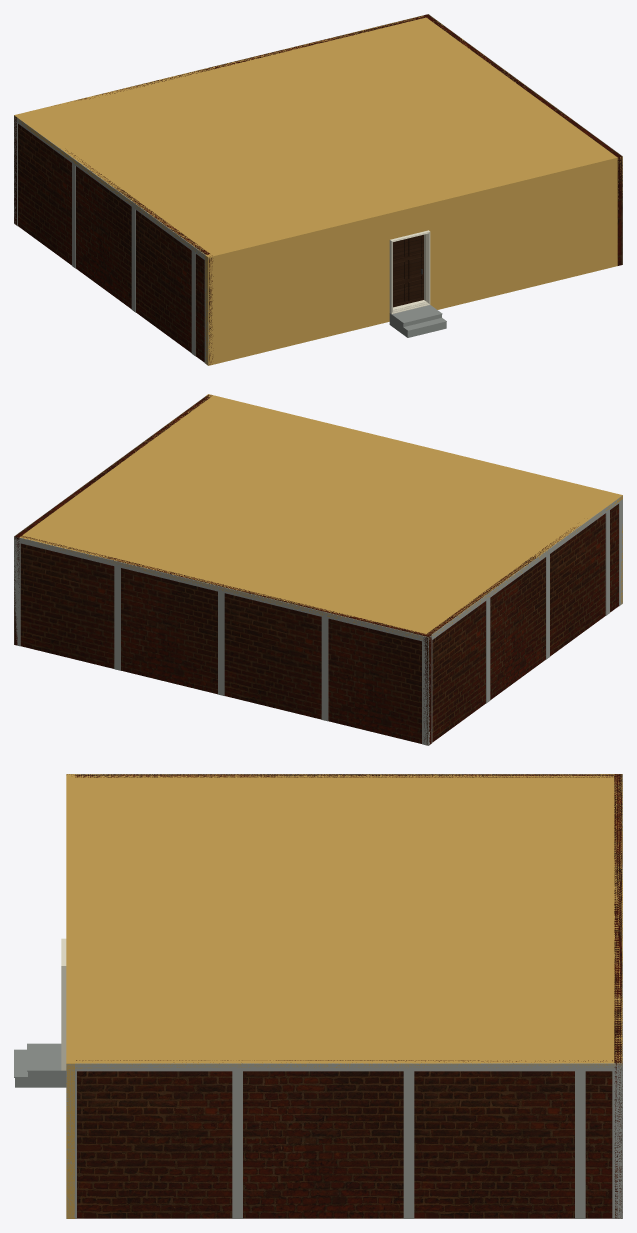
The model's file is building.glb.
3 renders of one model, top to bottom at view 1: azimuth 30°, elevation 25°; view 2: azimuth 150°, elevation 25°; view 3: azimuth 270°, elevation 25°, orthographic. The views are drawn at different scales.
Visible parts, largest first — view 1: roof/house:0/roof_slab#0001, house:0/edge0/z0/house:0/edge0/z0/wall_0_0, house:0/edge3/z0/house:0/edge3/z0/wall_0_0, house:0/edge1/z0/house:0/edge1/z0/wall_0_0, entrance/dos_gradas/entrance_steps#0001, house:0/edge2/z0/house:0/edge2/z0/wall_0_0, house:0/edge3/z0/house:0/edge3/z0/beam_0_0, house:0/edge3/z0/house:0/edge3/z0/column_3_0, house:0/edge3/z0/house:0/edge3/z0/column_4_0; view 2: roof/house:0/roof_slab#0001, house:0/edge2/z0/house:0/edge2/z0/wall_0_0, house:0/edge3/z0/house:0/edge3/z0/wall_0_0, house:0/edge2/z0/house:0/edge2/z0/beam_0_0, house:0/edge0/z0/house:0/edge0/z0/wall_0_0, house:0/edge1/z0/house:0/edge1/z0/wall_0_0, house:0/edge3/z0/house:0/edge3/z0/beam_0_0, house:0/edge2/z0/house:0/edge2/z0/column_4_0, house:0/edge2/z0/house:0/edge2/z0/column_2_0, house:0/edge2/z0/house:0/edge2/z0/column_3_0, house:0/edge2/z0/house:0/edge2/z0/column_1_0, house:0/edge2/z0/house:0/edge2/z0/column_0_0 (+2 smaller); view 3: roof/house:0/roof_slab#0001, house:0/edge1/z0/house:0/edge1/z0/wall_0_0, house:0/edge1/z0/house:0/edge1/z0/beam_0_0, house:0/edge0/z0/house:0/edge0/z0/wall_0_0, house:0/edge2/z0/house:0/edge2/z0/wall_0_0, entrance/dos_gradas/entrance_steps#0001, house:0/edge3/z0/house:0/edge3/z0/wall_0_0, house:0/edge1/z0/house:0/edge1/z0/column_3_0, house:0/edge1/z0/house:0/edge1/z0/column_2_0, house:0/edge1/z0/house:0/edge1/z0/column_4_0, house:0/edge1/z0/house:0/edge1/z0/column_1_0, house:0/edge1/z0/house:0/edge1/z0/column_0_0 (+1 smaller).
Boxes of the visible parts, box(x1,y1,x2,y2) form: roof/house:0/roof_slab#0001: box(14, 16, 617, 258); house:0/edge0/z0/house:0/edge0/z0/wall_0_0: box(205, 156, 622, 365); house:0/edge3/z0/house:0/edge3/z0/wall_0_0: box(18, 124, 213, 364); house:0/edge1/z0/house:0/edge1/z0/wall_0_0: box(424, 14, 622, 265); entrance/dos_gradas/entrance_steps#0001: box(389, 305, 446, 337); house:0/edge2/z0/house:0/edge2/z0/wall_0_0: box(14, 15, 429, 225); house:0/edge3/z0/house:0/edge3/z0/beam_0_0: box(14, 116, 208, 261); house:0/edge3/z0/house:0/edge3/z0/column_3_0: box(131, 207, 135, 312); house:0/edge3/z0/house:0/edge3/z0/column_4_0: box(191, 251, 195, 356); roof/house:0/roof_slab#0001: box(19, 395, 622, 639); house:0/edge2/z0/house:0/edge2/z0/wall_0_0: box(20, 535, 431, 744); house:0/edge3/z0/house:0/edge3/z0/wall_0_0: box(423, 504, 618, 745); house:0/edge2/z0/house:0/edge2/z0/beam_0_0: box(14, 536, 428, 642); house:0/edge0/z0/house:0/edge0/z0/wall_0_0: box(206, 394, 622, 604); house:0/edge1/z0/house:0/edge1/z0/wall_0_0: box(14, 394, 212, 645); house:0/edge3/z0/house:0/edge3/z0/beam_0_0: box(428, 495, 622, 642); house:0/edge2/z0/house:0/edge2/z0/column_4_0: box(321, 617, 328, 721); house:0/edge2/z0/house:0/edge2/z0/column_2_0: box(114, 566, 120, 670); house:0/edge2/z0/house:0/edge2/z0/column_3_0: box(218, 591, 224, 695); house:0/edge2/z0/house:0/edge2/z0/column_1_0: box(422, 641, 428, 745); house:0/edge2/z0/house:0/edge2/z0/column_0_0: box(14, 542, 20, 646); roof/house:0/roof_slab#0001: box(66, 774, 622, 1068); house:0/edge1/z0/house:0/edge1/z0/wall_0_0: box(76, 1060, 621, 1218); house:0/edge1/z0/house:0/edge1/z0/beam_0_0: box(66, 1063, 622, 1071); house:0/edge0/z0/house:0/edge0/z0/wall_0_0: box(66, 774, 74, 1218); house:0/edge2/z0/house:0/edge2/z0/wall_0_0: box(614, 774, 622, 1218); entrance/dos_gradas/entrance_steps#0001: box(15, 1043, 66, 1087); house:0/edge3/z0/house:0/edge3/z0/wall_0_0: box(67, 774, 614, 777); house:0/edge1/z0/house:0/edge1/z0/column_3_0: box(403, 1071, 414, 1218); house:0/edge1/z0/house:0/edge1/z0/column_2_0: box(232, 1071, 242, 1218); house:0/edge1/z0/house:0/edge1/z0/column_4_0: box(575, 1071, 585, 1218); house:0/edge1/z0/house:0/edge1/z0/column_1_0: box(612, 1071, 622, 1218); house:0/edge1/z0/house:0/edge1/z0/column_0_0: box(66, 1071, 76, 1218).
Size of the model in its own units: 16 by 4.12 by 14.22.
7 materials, 2 textured.
